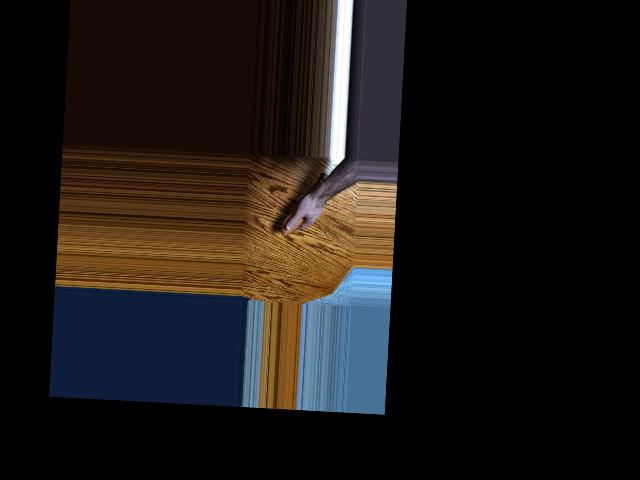sweet_potato: (281, 168, 329, 238)
